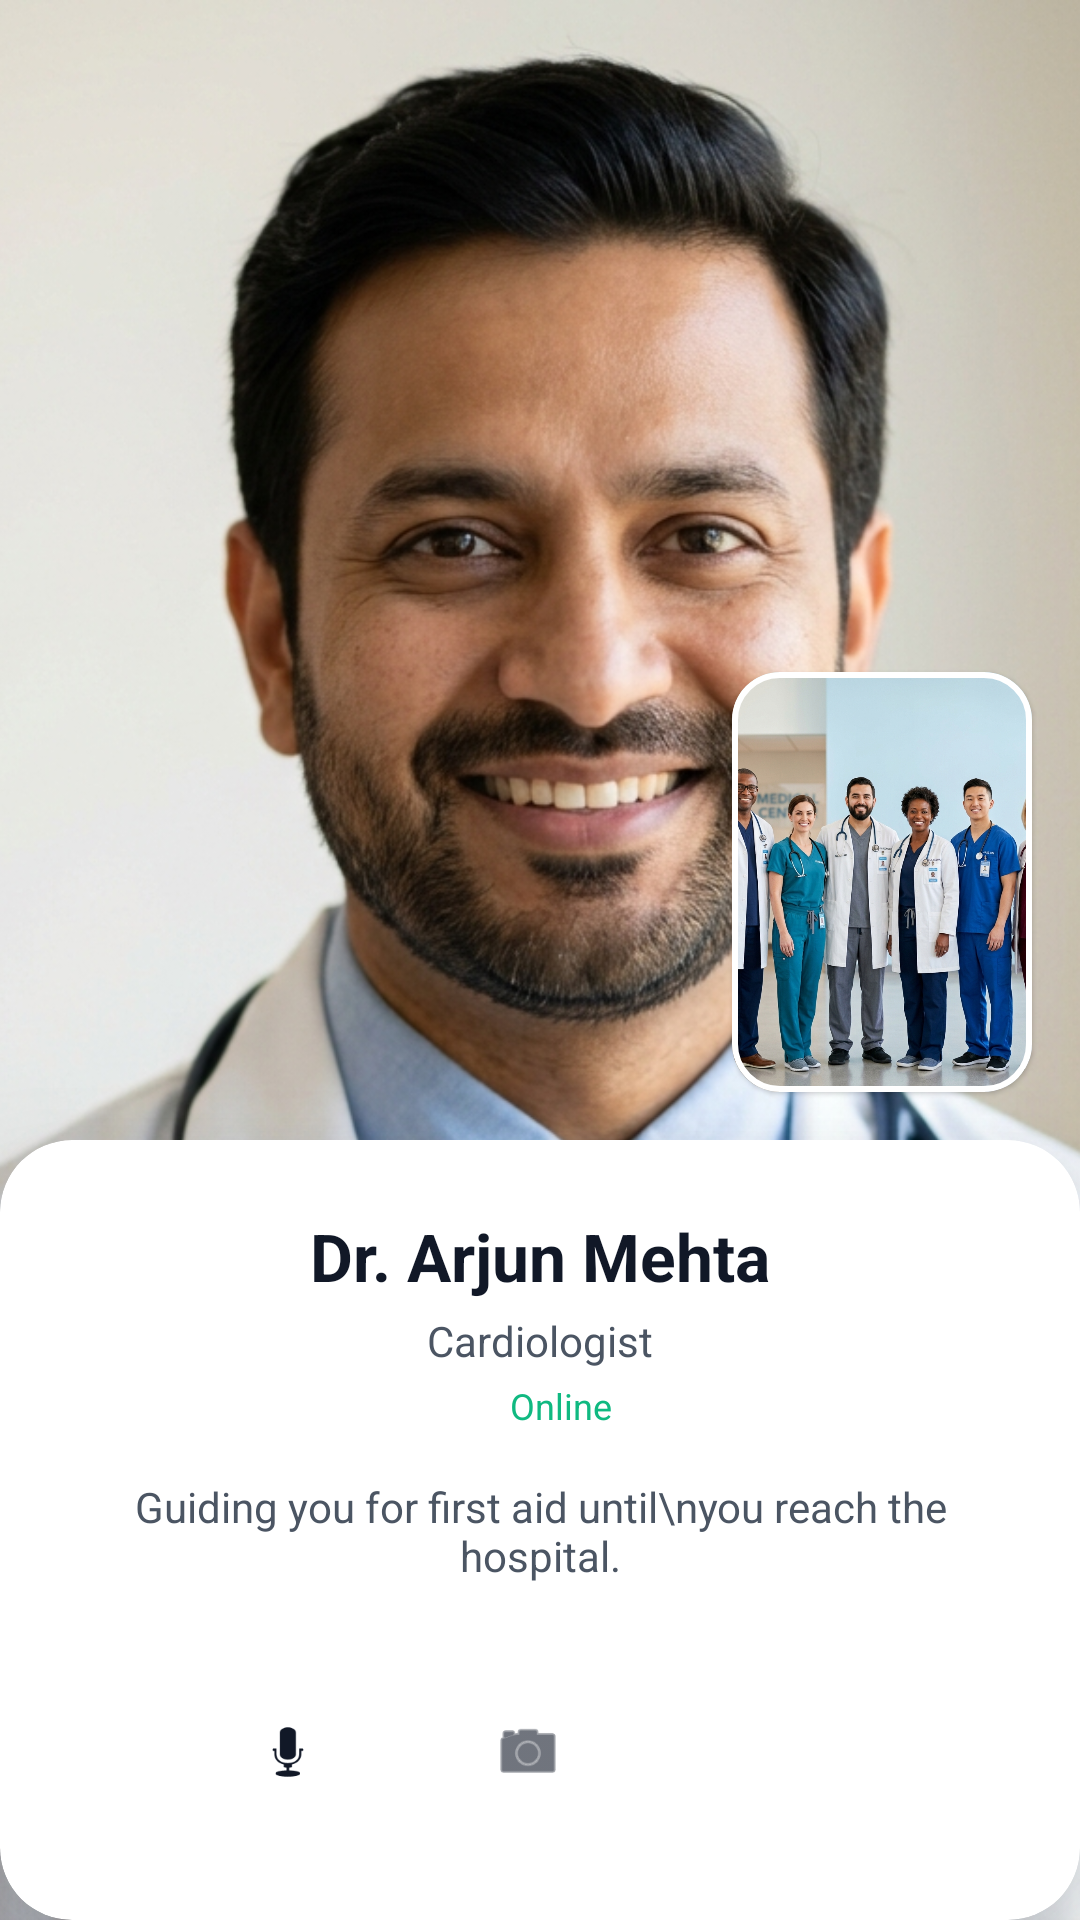

Locate icon controls on the screen. Image size 1080w x 1920h, boxes as (x1, y1, x2, y2).
camera: (500, 1729, 556, 1773)
speak now: (272, 1727, 304, 1777)
